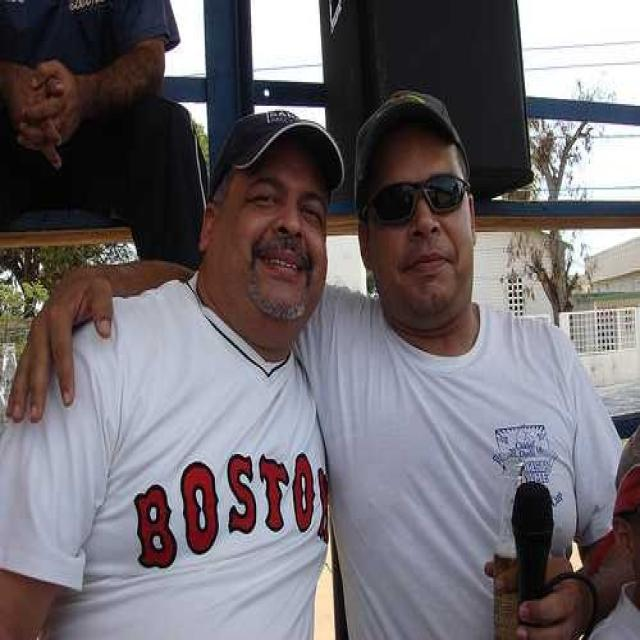microphone: (504, 483, 552, 640)
